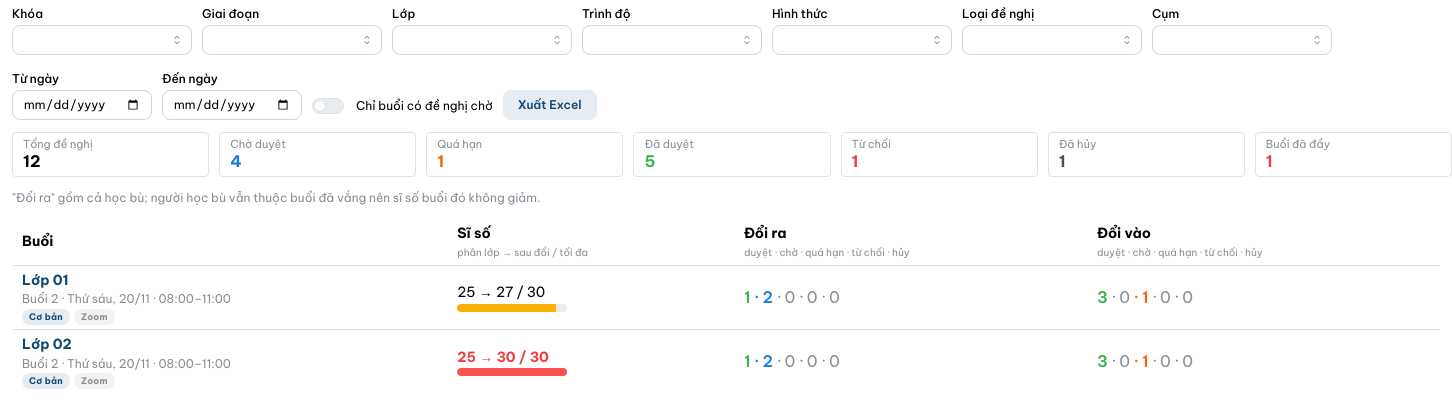
Test: Tab Thống kê đổi buổi › chưa chọn khóa: nhãn giai đoạn có mã khóa
The width and height of the screenshot is (1452, 406).
Click the field labelled "Giai đoạn".
click(292, 40)  # box 202,25 -> 382,55
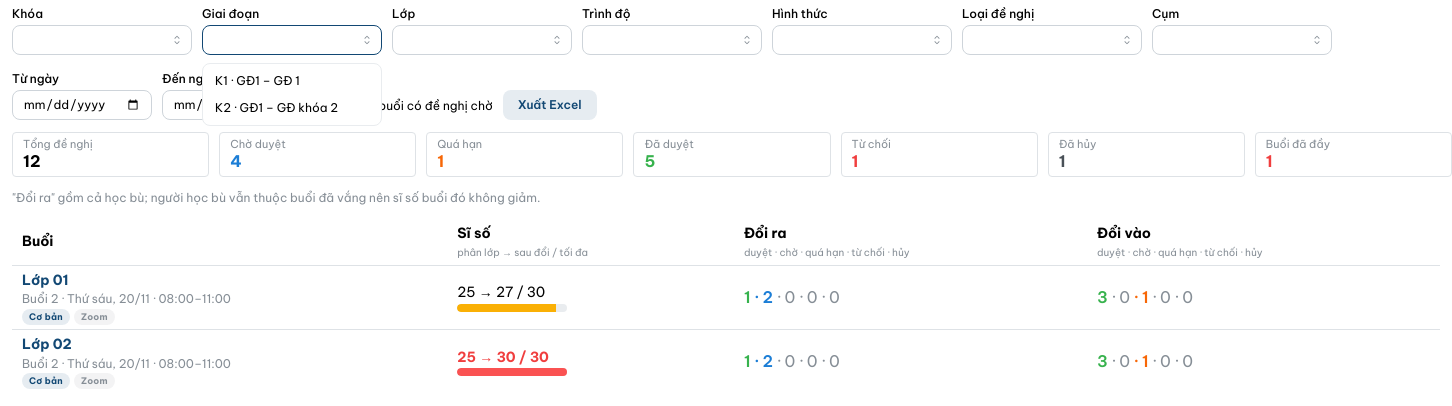
Check: the option "K1 · GĐ1 – GĐ 1" is shown, box 215,73 -> 300,88
Check: the option "K2 · GĐ1 – GĐ khóa 2" is shown, box 215,100 -> 338,115
